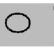no answer: (2, 9, 32, 35)
